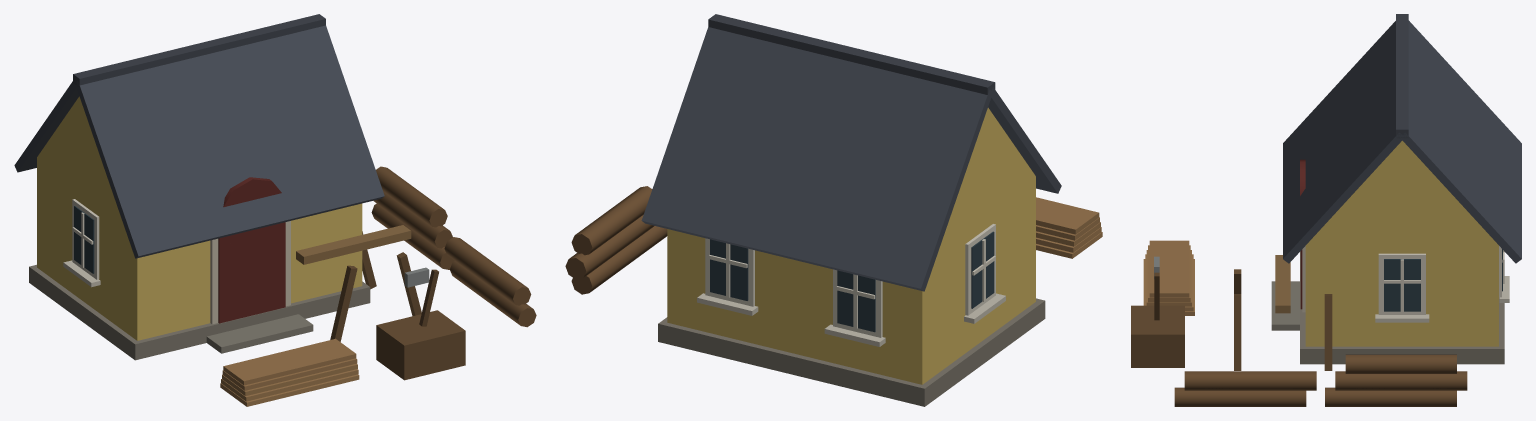
File: procedural_lumber@4.glb
3 renders of one model, left to right at view 1: azimuth 30°, elevation 25°; view 2: azimuth 150°, elevation 25°; view 3: azimuth 270°, elevation 25°, orthographic. The views are drawn at different scales.
Parts seen in each view (by area): view 1: part_0; view 2: part_0; view 3: part_0.
Boxes of the visible parts, x1,y1,x2,y2 form: part_0: (14,14,536,406); part_0: (565,14,1102,406); part_0: (1131,14,1521,406).
Bounding box in the file's own units: 6.69 × 4.61 × 6.88.
